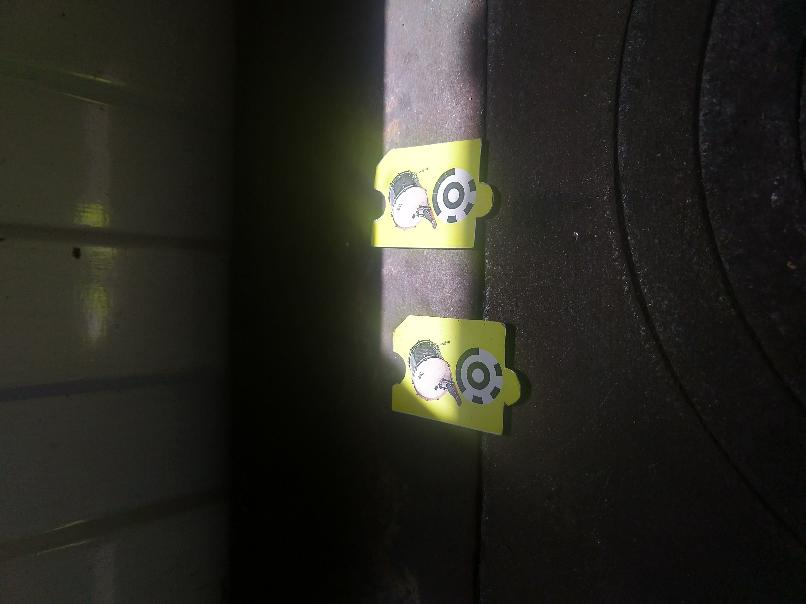bumbo: (390, 314, 525, 439), (373, 140, 498, 257)
